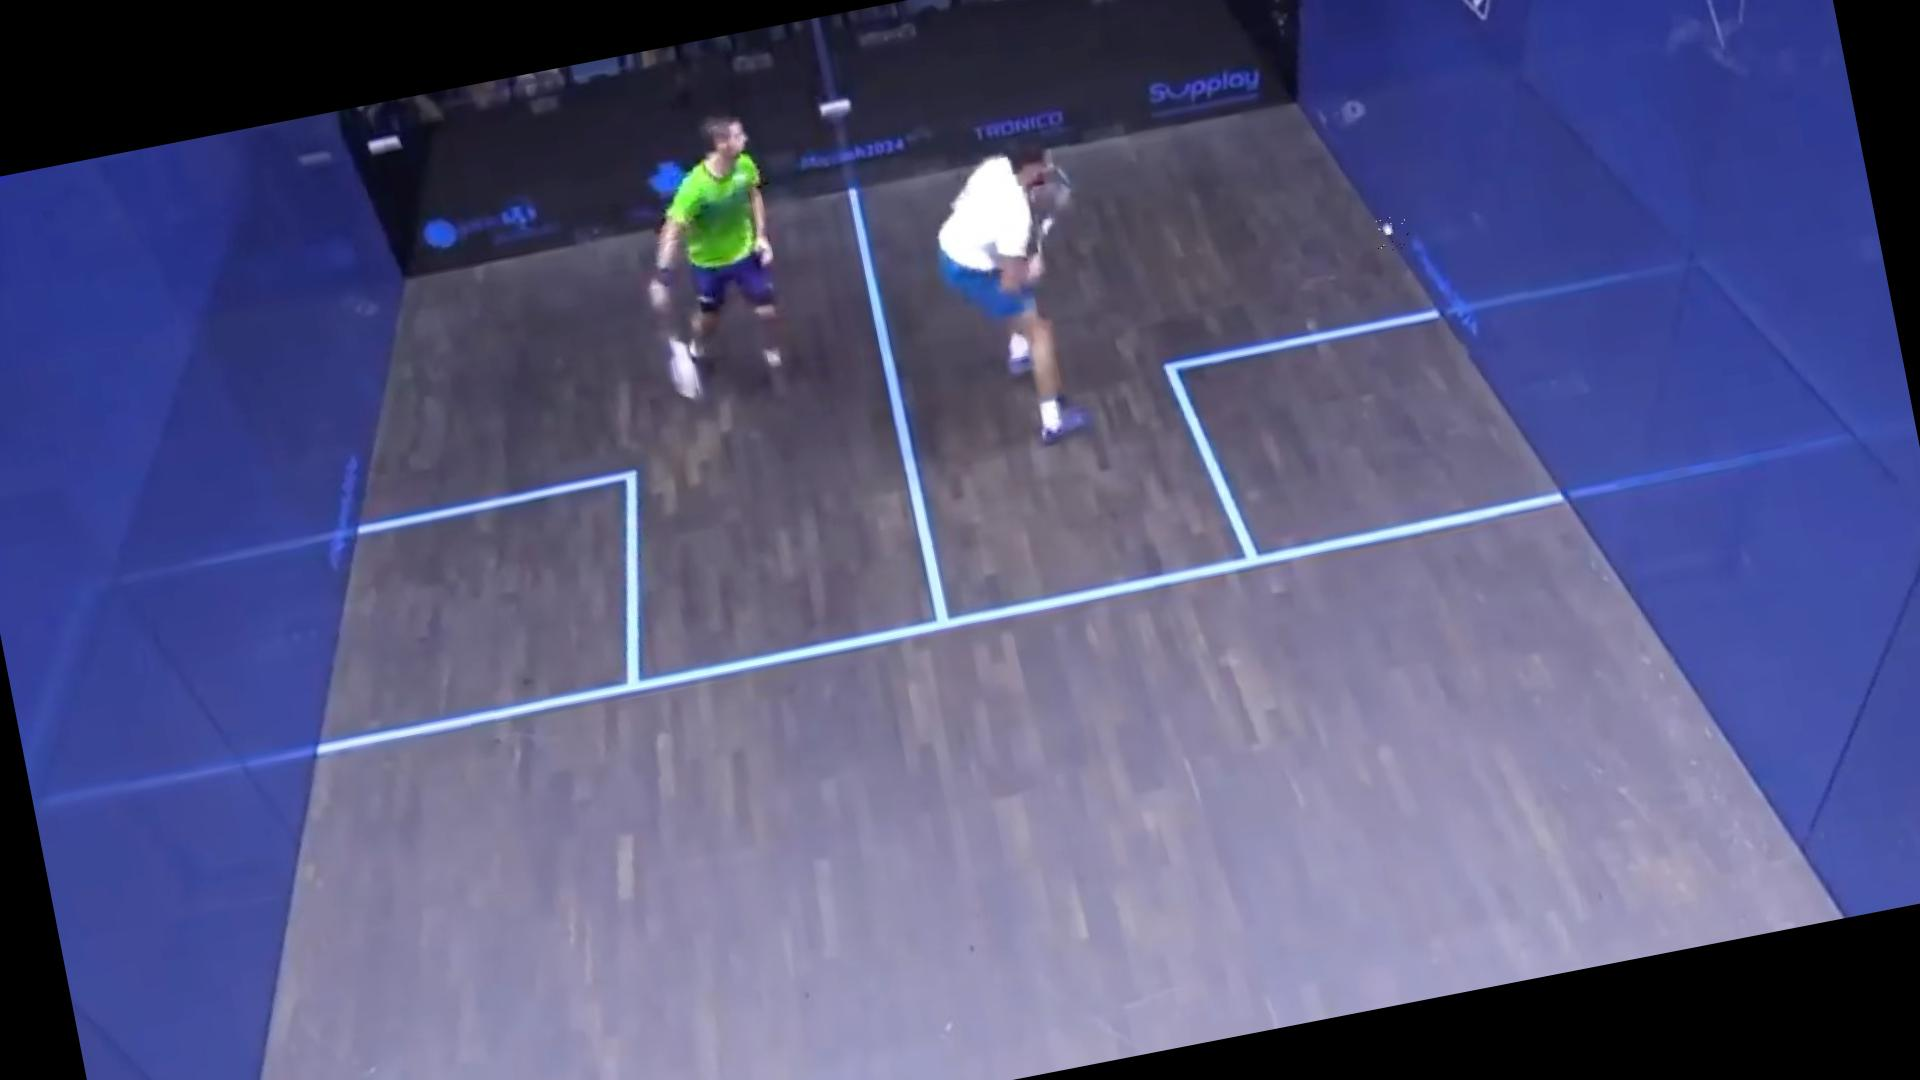Squash-Ball: (1366, 211, 1411, 255)
